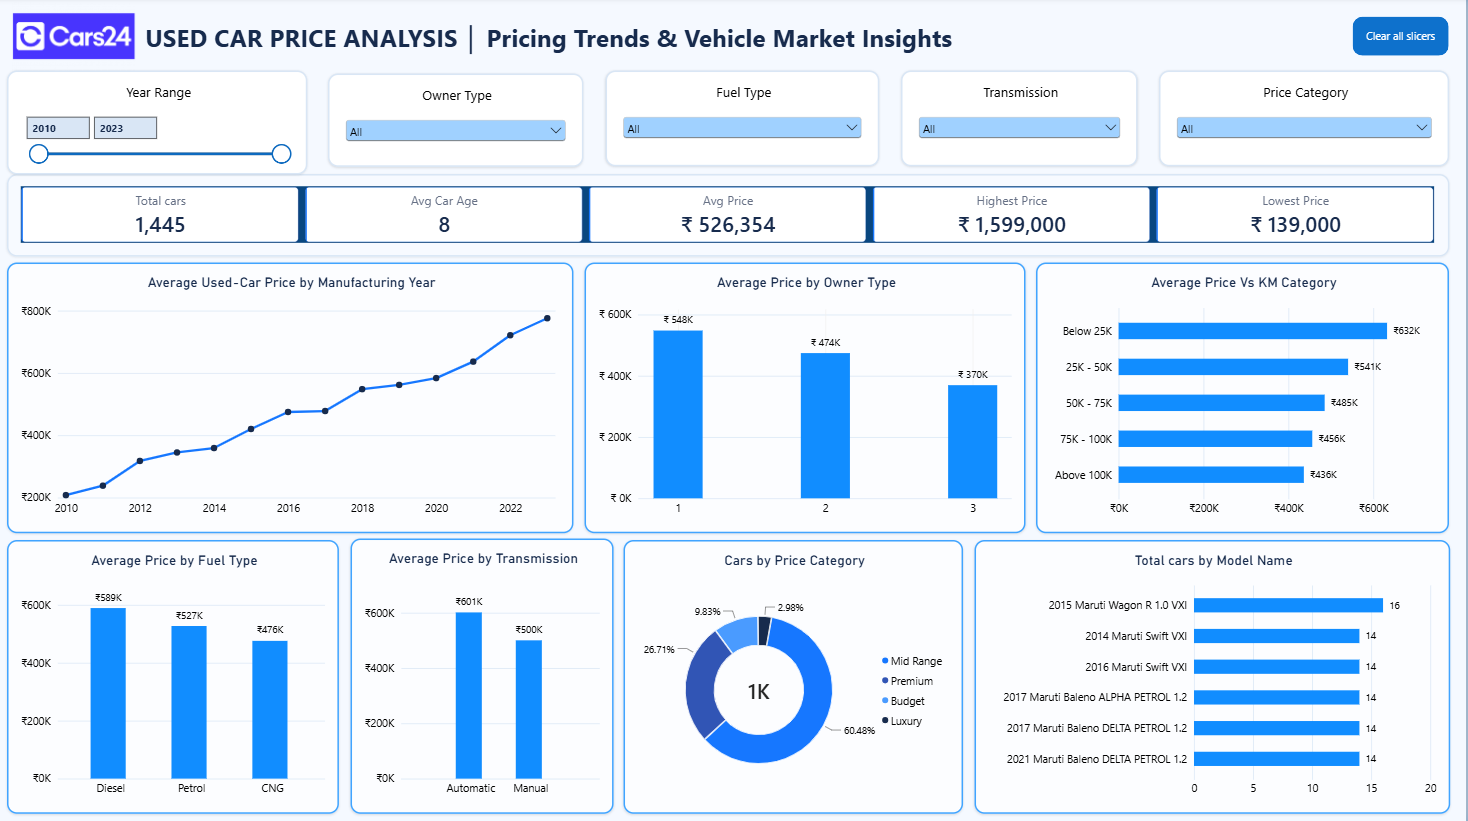

What the dashboard file says about the page in this screenshot:
{"tool":"powerbi","page":{"name":"Page 1","canvas":[1920,1080],"ordinal":0},"visuals":[{"type":"textbox","box":[12,12,1425.3,71.1],"z":0},{"type":"cardVisual","fields":{"Data":["key measures.Total cars","key measures.Avg Car Age","key measures.Avg Price","key measures.Highest Price","key measures.Lowest Price"]},"box":[12,231.3,1886,108],"z":1000},{"type":"lineChart","title":"Average Used-Car Price by Manufacturing Year","fields":{"Category":["cars24data.Manufacturing_year.Variation.Date Hierarchy.Year"],"Y":["Avg(cars24data.Price)"]},"box":[11.4,347.5,740.4,354.3],"z":2000},{"type":"clusteredColumnChart","title":"Average Price by Fuel Type","fields":{"Category":["cars24data.Fuel type"],"Y":["Avg(cars24data.Price)"]},"box":[12,710,434,358],"z":3000},{"type":"clusteredColumnChart","title":"Average Price by Transmission","fields":{"Category":["cars24data.Transmission"],"Y":["Avg(cars24data.Price)"]},"box":[460,708,344,360],"z":4000},{"type":"donutChart","title":"Cars by Price Category","fields":{"Y":["key measures.Total cars"],"Category":["cars24data.Price Category"]},"box":[818,710,444,358],"z":5000},{"type":"clusteredBarChart","fields":{"Category":["cars24data.Model Name"],"Y":["key measures.Total cars"]},"box":[1276,710,622,358],"z":6000},{"type":"slicer","title":"Year Range","fields":{"Values":["cars24data.Manufacturing_year.Variation.Date Hierarchy.Year"]},"box":[11.4,95.4,392.9,136.3],"z":7000},{"type":"slicer","title":"Owner Type","fields":{"Values":["cars24data.Ownership"]},"box":[432.4,100,333.7,121.7],"z":8000},{"type":"slicer","title":"Fuel Type","fields":{"Values":["cars24data.Fuel type"]},"box":[794.3,96.4,357.8,125.3],"z":9000},{"type":"slicer","title":"Transmission","fields":{"Values":["cars24data.Transmission"]},"box":[1180.3,96.4,309.6,125.3],"z":10000},{"type":"actionButton","box":[1772,26,125.7,51.4],"z":11000},{"type":"clusteredColumnChart","title":"Average Price by Owner Type","fields":{"Category":["cars24data.Ownership"],"Y":["key measures.Avg Price"]},"box":[766.4,347.5,576.9,354.3],"z":12000},{"type":"image","box":[12,6,174.7,90.4],"z":13000},{"type":"slicer","title":"Price Category","fields":{"Values":["cars24data.Price Category"]},"box":[1518.1,96.4,379.5,125.3],"z":14000},{"type":"clusteredBarChart","title":"Average Price Vs KM Category","fields":{"Category":["cars24data.KM Category"],"Y":["Avg(cars24data.Price)"]},"box":[1358,348,540,354],"z":15000}]}

Visuals, with their boxes in screenshot pixels (x1, y1, x2, y2), scaled from the page's 1920x1080 canvas onto the 1468x821 screenshot:
textbox: <bbox>9, 9, 1099, 63</bbox>
cardVisual - key measures.Total cars x key measures.Avg Car Age: <bbox>9, 176, 1451, 258</bbox>
"Average Used-Car Price by Manufacturing Year" lineChart: <bbox>9, 264, 575, 533</bbox>
"Average Price by Fuel Type" clusteredColumnChart: <bbox>9, 540, 341, 812</bbox>
"Average Price by Transmission" clusteredColumnChart: <bbox>352, 538, 615, 812</bbox>
"Cars by Price Category" donutChart: <bbox>625, 540, 965, 812</bbox>
clusteredBarChart - cars24data.Model Name x key measures.Total cars: <bbox>976, 540, 1451, 812</bbox>
"Year Range" slicer: <bbox>9, 73, 309, 176</bbox>
"Owner Type" slicer: <bbox>331, 76, 586, 169</bbox>
"Fuel Type" slicer: <bbox>607, 73, 881, 169</bbox>
"Transmission" slicer: <bbox>902, 73, 1139, 169</bbox>
actionButton: <bbox>1355, 20, 1451, 59</bbox>
"Average Price by Owner Type" clusteredColumnChart: <bbox>586, 264, 1027, 533</bbox>
image: <bbox>9, 5, 143, 73</bbox>
"Price Category" slicer: <bbox>1161, 73, 1451, 169</bbox>
"Average Price Vs KM Category" clusteredBarChart: <bbox>1038, 265, 1451, 534</bbox>
